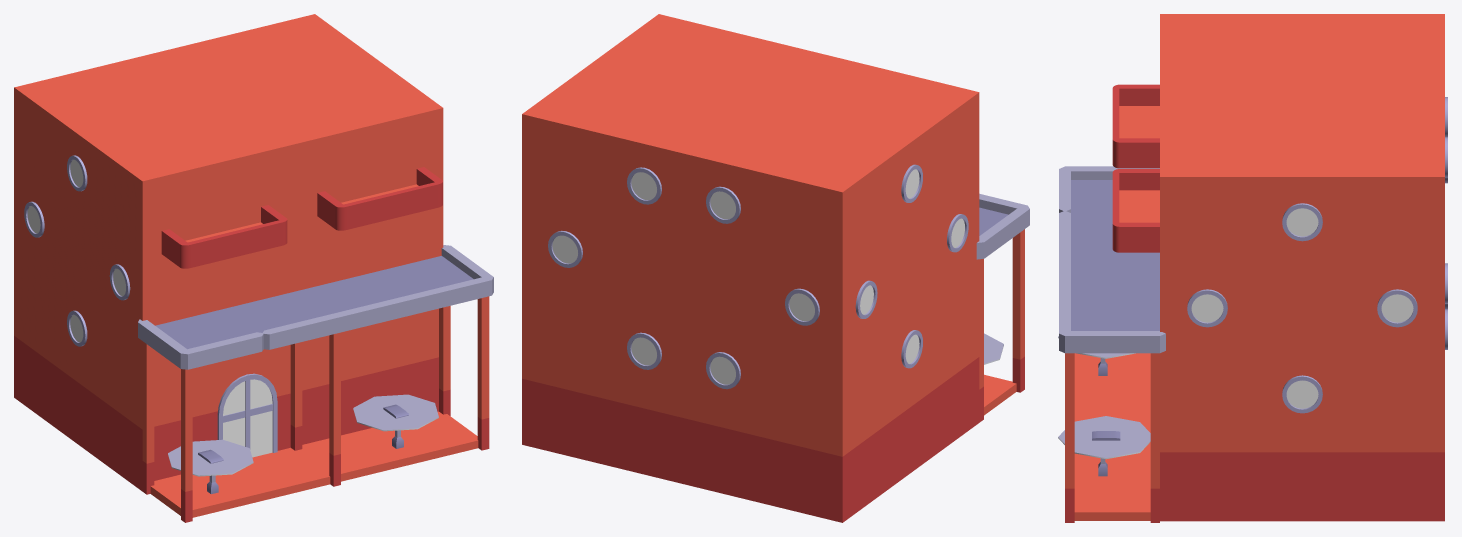
The model's file is lame_cafe.glb.
The picture shows the model from 3 angles, left to right: view 1: azimuth 30°, elevation 25°; view 2: azimuth 150°, elevation 25°; view 3: azimuth 270°, elevation 25°; orthographic projection. The views are drawn at different scales.
Parts seen in each view (by area): view 1: mergedBlocks(Clone); view 2: mergedBlocks(Clone); view 3: mergedBlocks(Clone).
Part boxes in pixels (x1,y1,x2,y2): mergedBlocks(Clone): [14, 14, 493, 522]; mergedBlocks(Clone): [522, 14, 1029, 522]; mergedBlocks(Clone): [1058, 14, 1447, 522].
Bounding box in the file's own units: 4.23 × 4 × 4.1.
